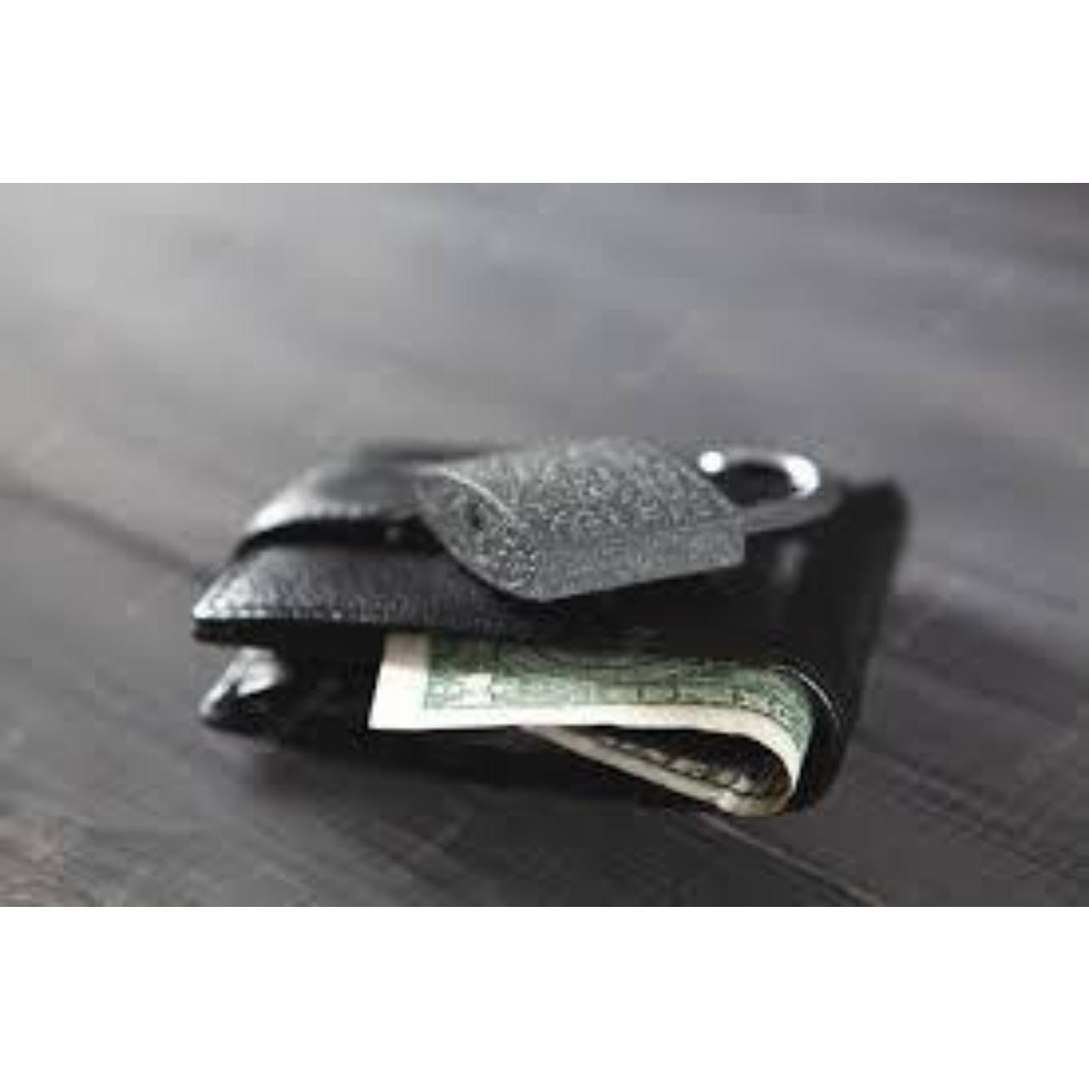wallet: (212, 402, 928, 830)
